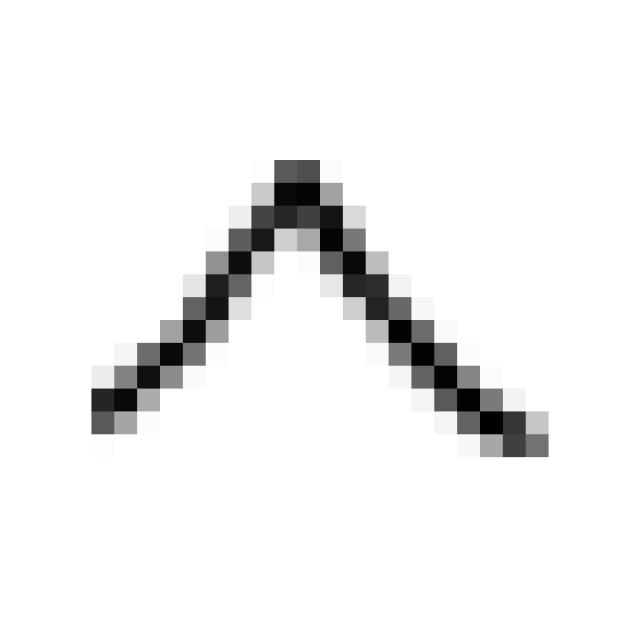8 -eight-: (66, 139, 569, 480)
